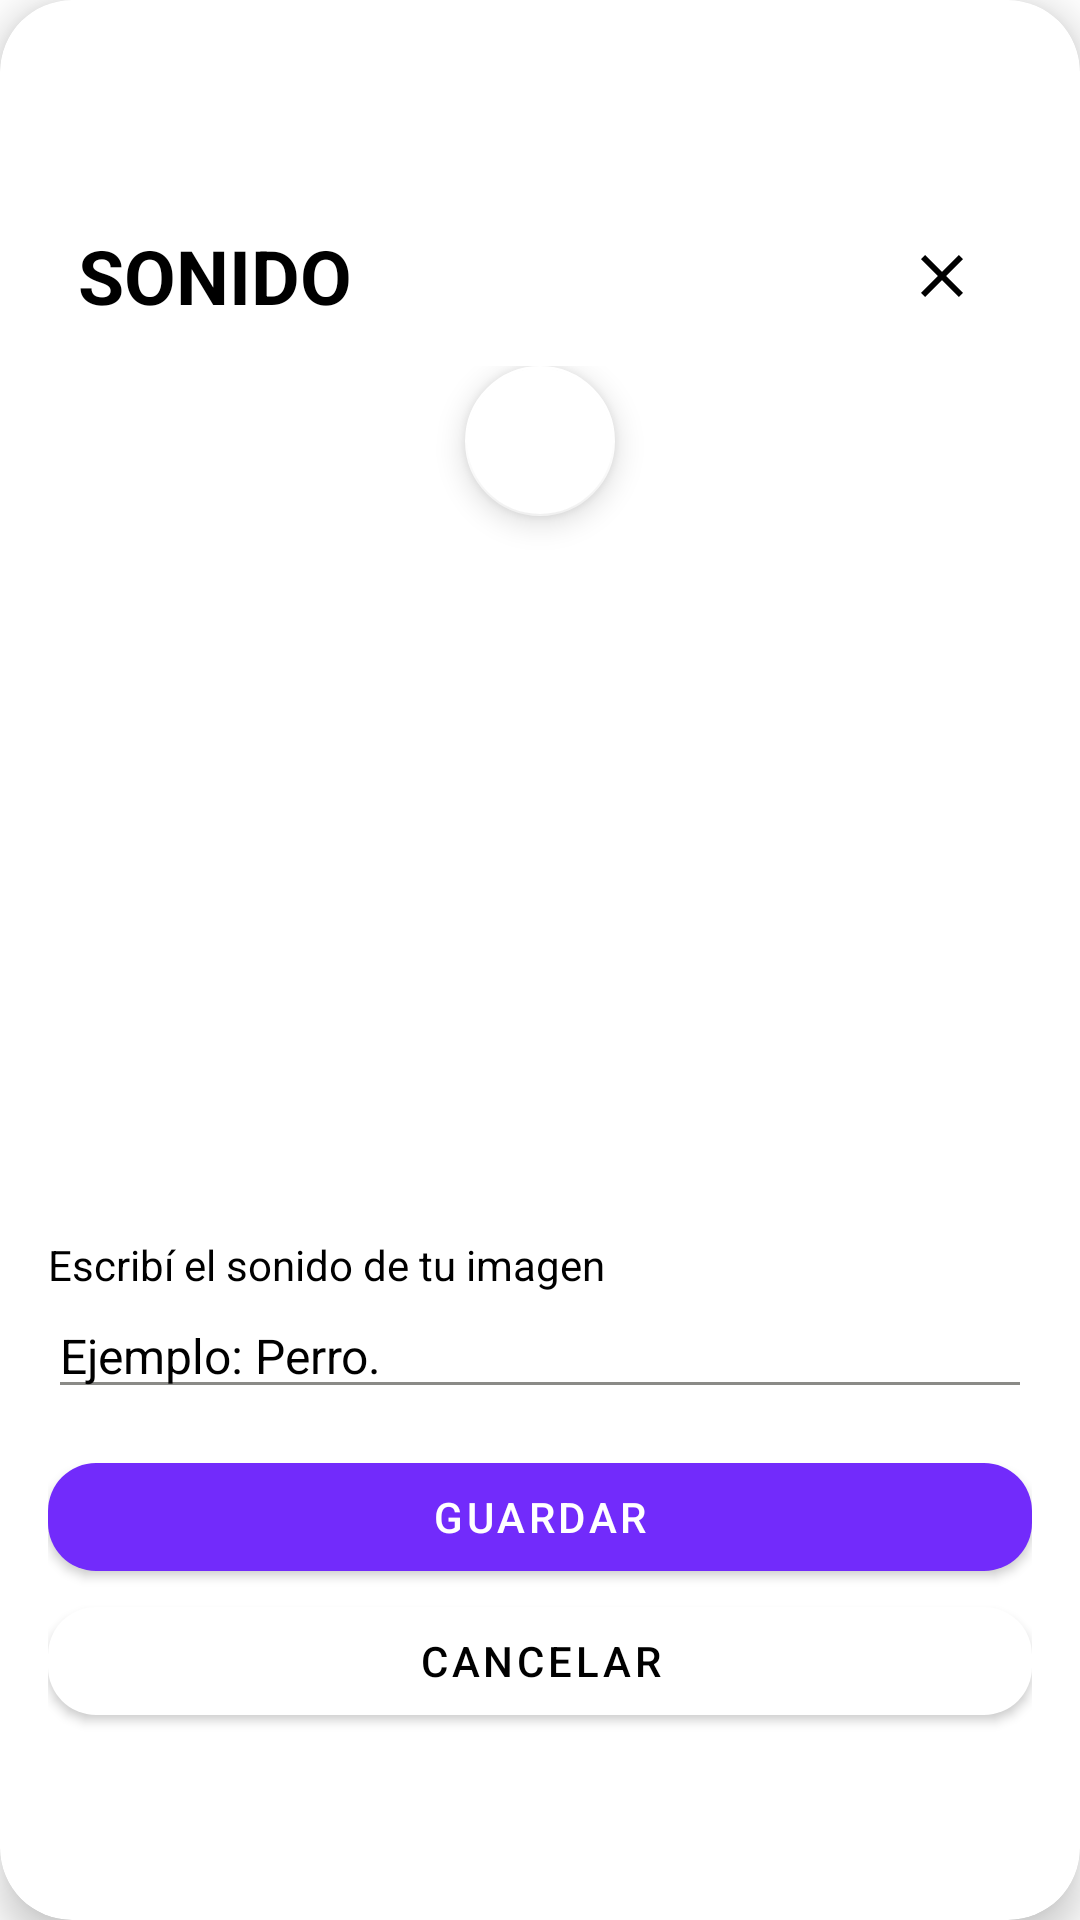

Icon bounding boxes for this 1080x1920 phone screenshot, format (x1, y1, x2, y2):
Cerrar: (921, 255, 963, 297)
